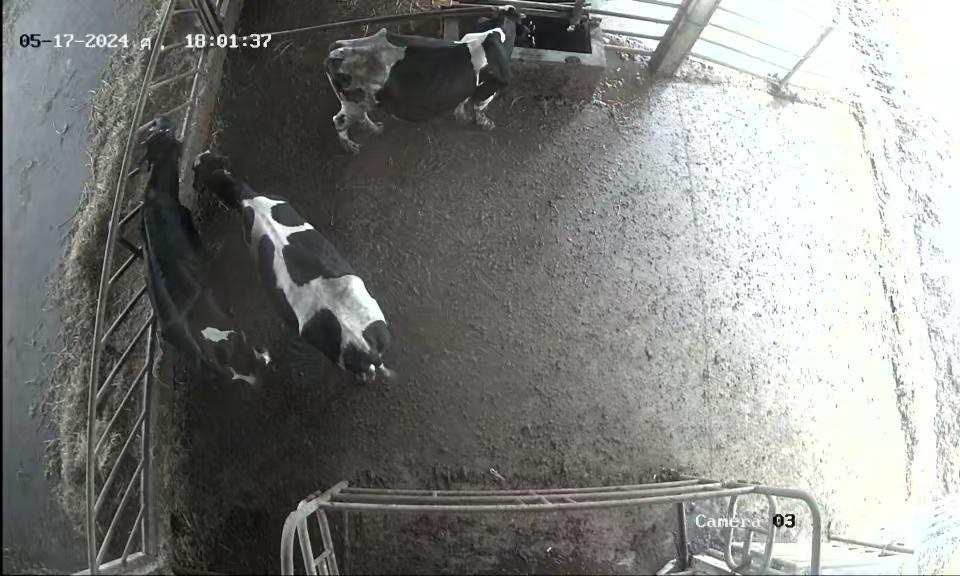drink: (465, 2, 553, 97)
stand: (195, 118, 410, 392), (133, 115, 269, 395)
